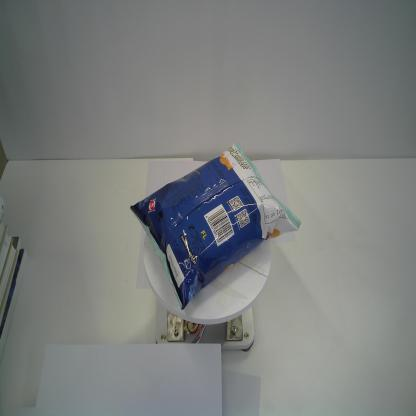Puffed Food: (129, 141, 302, 311)
